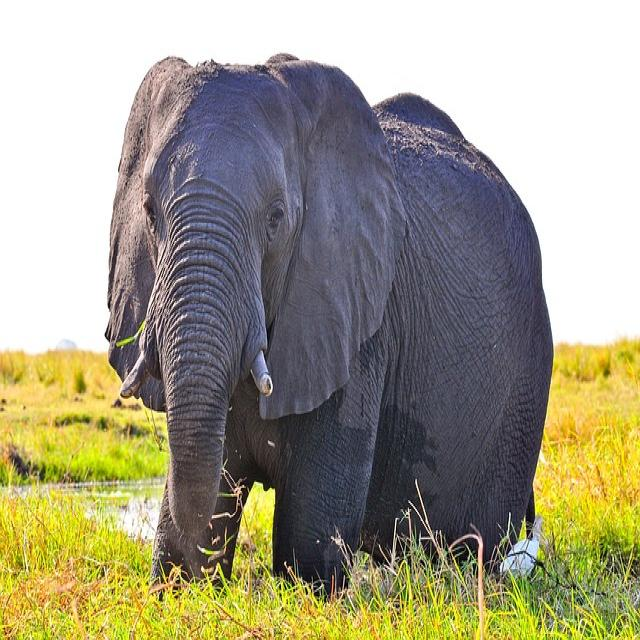FIL: (112, 34, 558, 595)
